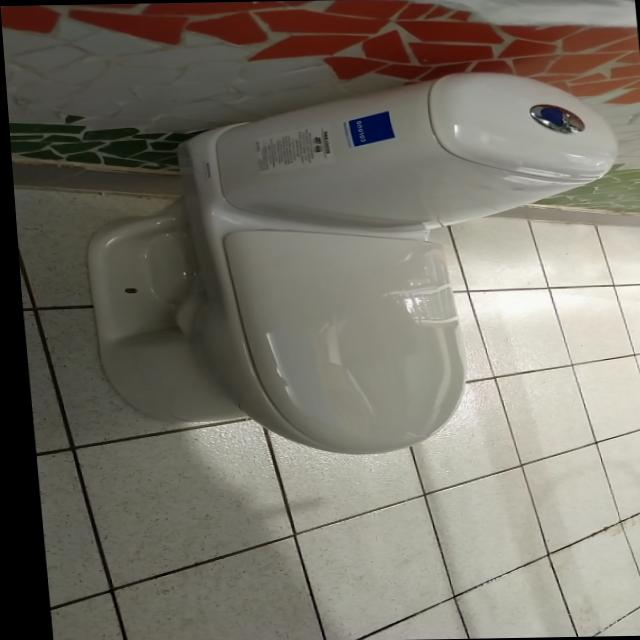toilet: (56, 61, 640, 462)
